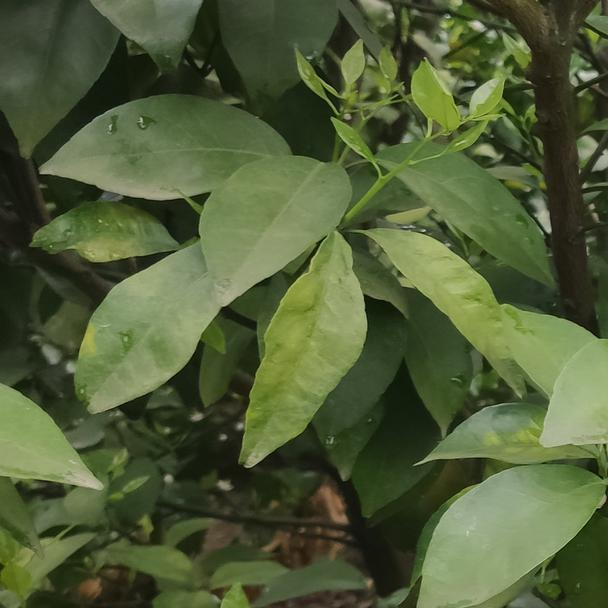shoot: (297, 42, 509, 166)
